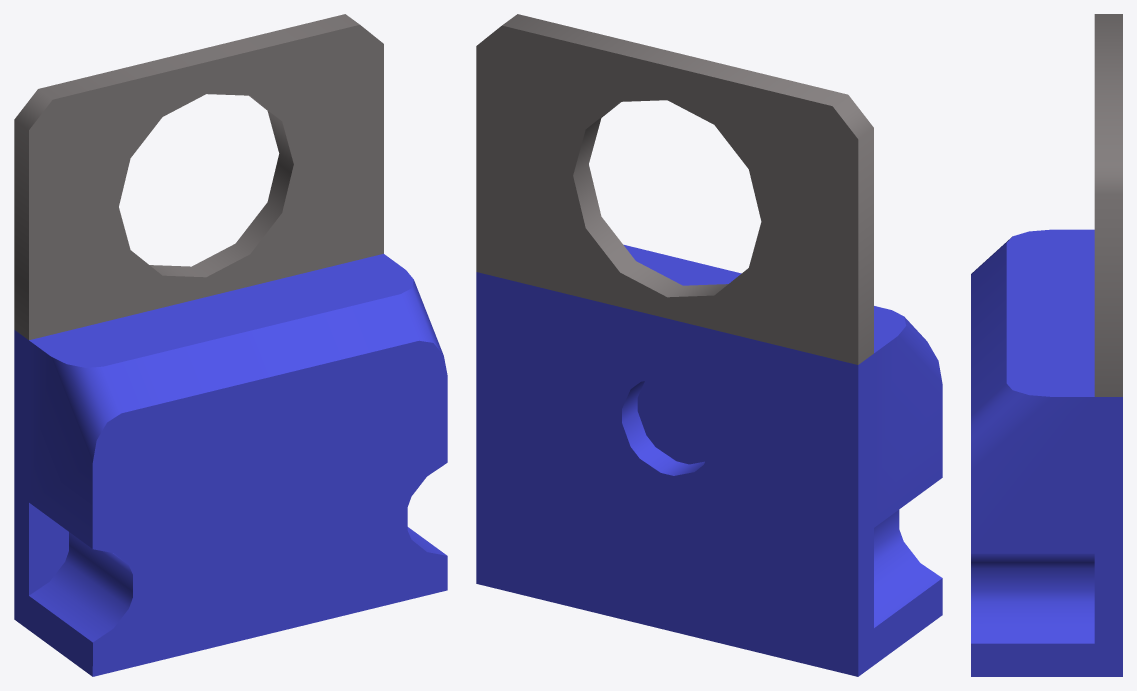
Rendered from transistor.fbx.
The picture shows the model from 3 angles, left to right: view 1: azimuth 30°, elevation 25°; view 2: azimuth 150°, elevation 25°; view 3: azimuth 270°, elevation 25°; orthographic projection. The views are drawn at different scales.
Visible parts, largest first — view 1: Cube; view 2: Cube; view 3: Cube.
Boxes of the visible parts, x1,y1,x2,y2 form: Cube: (14, 14, 447, 676); Cube: (476, 14, 942, 676); Cube: (971, 14, 1122, 676).
Bounding box in the file's own units: 279 × 394 × 107.
